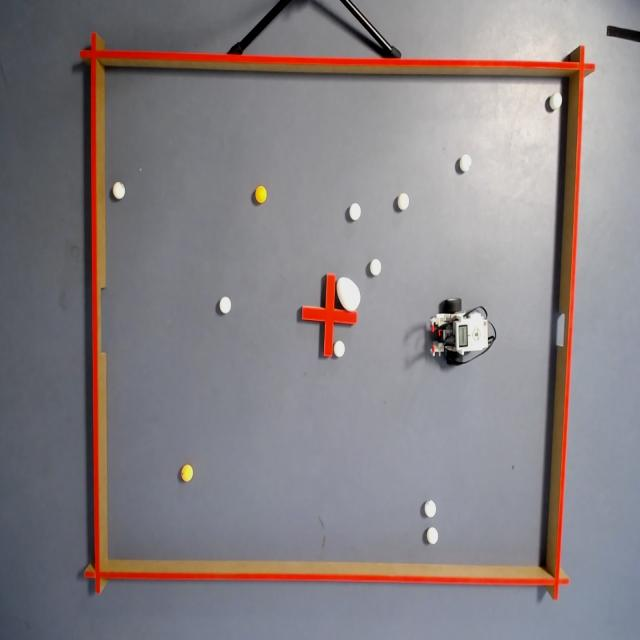boundaries: (540, 41, 594, 605), (75, 28, 598, 82), (82, 553, 570, 602), (77, 26, 111, 596)
cross: (300, 274, 358, 359)
egg: (336, 277, 362, 312)
large_goal: (80, 268, 116, 381)
orange_ball: (178, 461, 196, 486), (252, 180, 268, 205)
robot: (428, 284, 500, 372)
small_goal: (544, 295, 580, 368)
white_ball: (109, 180, 128, 203), (546, 90, 563, 114), (457, 150, 473, 174), (218, 292, 232, 319), (395, 190, 410, 215), (423, 497, 438, 518), (348, 202, 361, 224), (370, 256, 383, 278), (426, 526, 438, 546), (334, 340, 346, 360)
